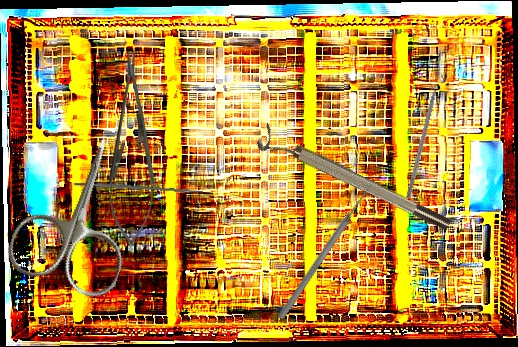Fixation Ring: (254, 122, 454, 242)
Hook Surgical: (405, 72, 444, 200)
Iris Scissors: (2, 120, 159, 304)
Needle Holder: (108, 51, 156, 246)
Pusher: (276, 181, 376, 321)
Scalpel Handle: (73, 180, 204, 195)
